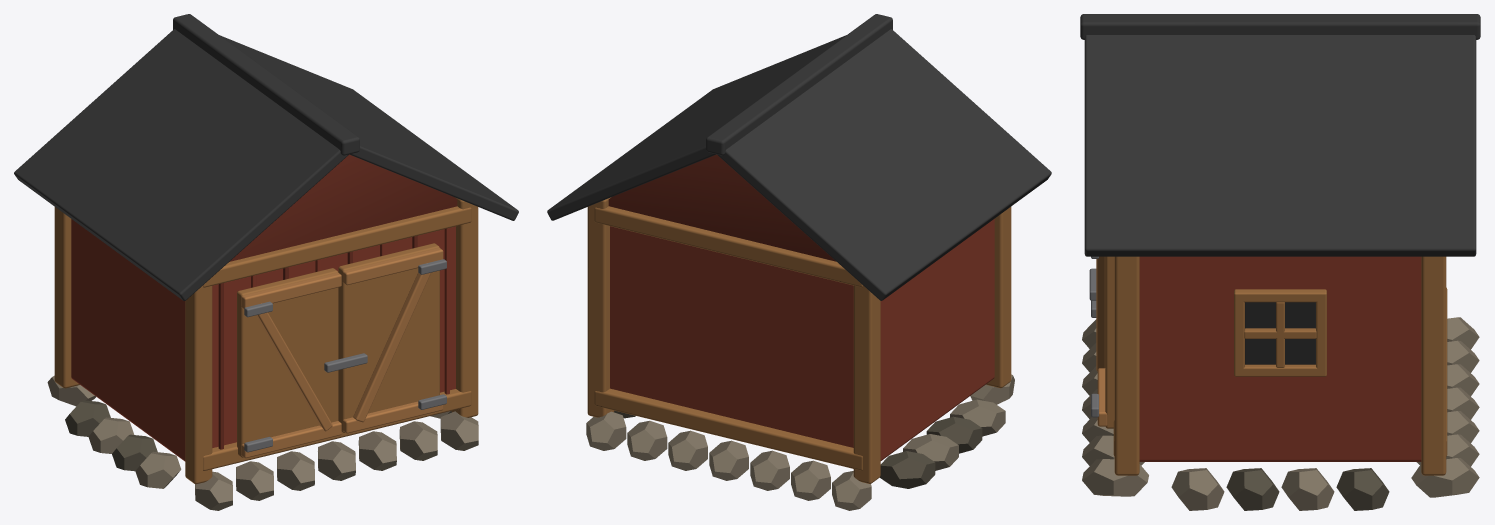
Rendered from storage-shed.glb.
3 views of the same model, side by side, from view 1: azimuth 30°, elevation 25°; view 2: azimuth 150°, elevation 25°; view 3: azimuth 270°, elevation 25° (orthographic). The views are drawn at different scales.
Parts seen in each view (by area): view 1: storage-shed-farm-roof-slate, storage-shed-farm-wood, storage-shed-farm-barn-red, storage-shed-farm-stone, storage-shed-farm-barn-red-dark, storage-shed-farm-wood-light, storage-shed-farm-stone-dark, storage-shed-farm-metal; view 2: storage-shed-farm-roof-slate, storage-shed-farm-barn-red, storage-shed-farm-wood, storage-shed-farm-stone, storage-shed-farm-barn-red-dark, storage-shed-farm-stone-dark; view 3: storage-shed-farm-roof-slate, storage-shed-farm-barn-red, storage-shed-farm-wood, storage-shed-farm-stone, storage-shed-farm-stone-dark, storage-shed-farm-window, storage-shed-farm-wood-light, storage-shed-farm-metal.
Boxes of the visible parts, x1,y1,x2,y2 form: storage-shed-farm-roof-slate: (14,14,518,300); storage-shed-farm-wood: (54,197,478,484); storage-shed-farm-barn-red: (71,219,455,461); storage-shed-farm-stone: (47,375,478,510); storage-shed-farm-barn-red-dark: (218,154,457,449); storage-shed-farm-wood-light: (241,248,443,458); storage-shed-farm-stone-dark: (65,400,157,471); storage-shed-farm-metal: (244,259,446,452); storage-shed-farm-roof-slate: (547,14,1051,300); storage-shed-farm-barn-red: (610,219,994,460); storage-shed-farm-wood: (587,197,1011,483); storage-shed-farm-stone: (586,374,1014,510); storage-shed-farm-barn-red-dark: (608,154,835,261); storage-shed-farm-stone-dark: (614,410,982,488); storage-shed-farm-roof-slate: (1080,14,1480,256); storage-shed-farm-barn-red: (1139,256,1421,461); storage-shed-farm-wood: (1105,256,1447,475); storage-shed-farm-stone: (1082,317,1479,510); storage-shed-farm-stone-dark: (1226,468,1389,510); storage-shed-farm-window: (1245,302,1315,364); storage-shed-farm-wood-light: (1096,256,1107,426); storage-shed-farm-metal: (1089,256,1098,417).
Size of the model in its own units: 5.15 by 5.05 by 4.49.
